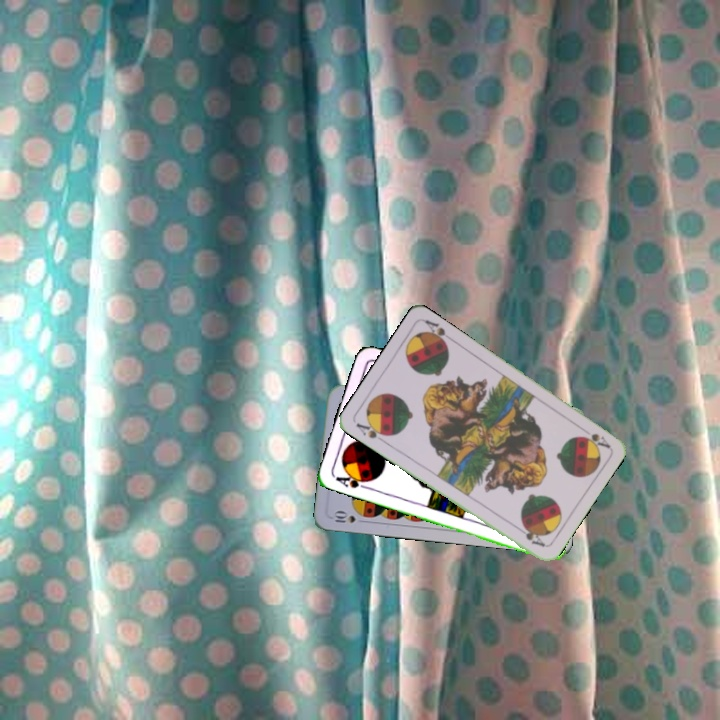S10: (330, 508, 368, 525)
SA: (352, 418, 392, 446), (331, 468, 373, 492), (576, 423, 612, 450)
